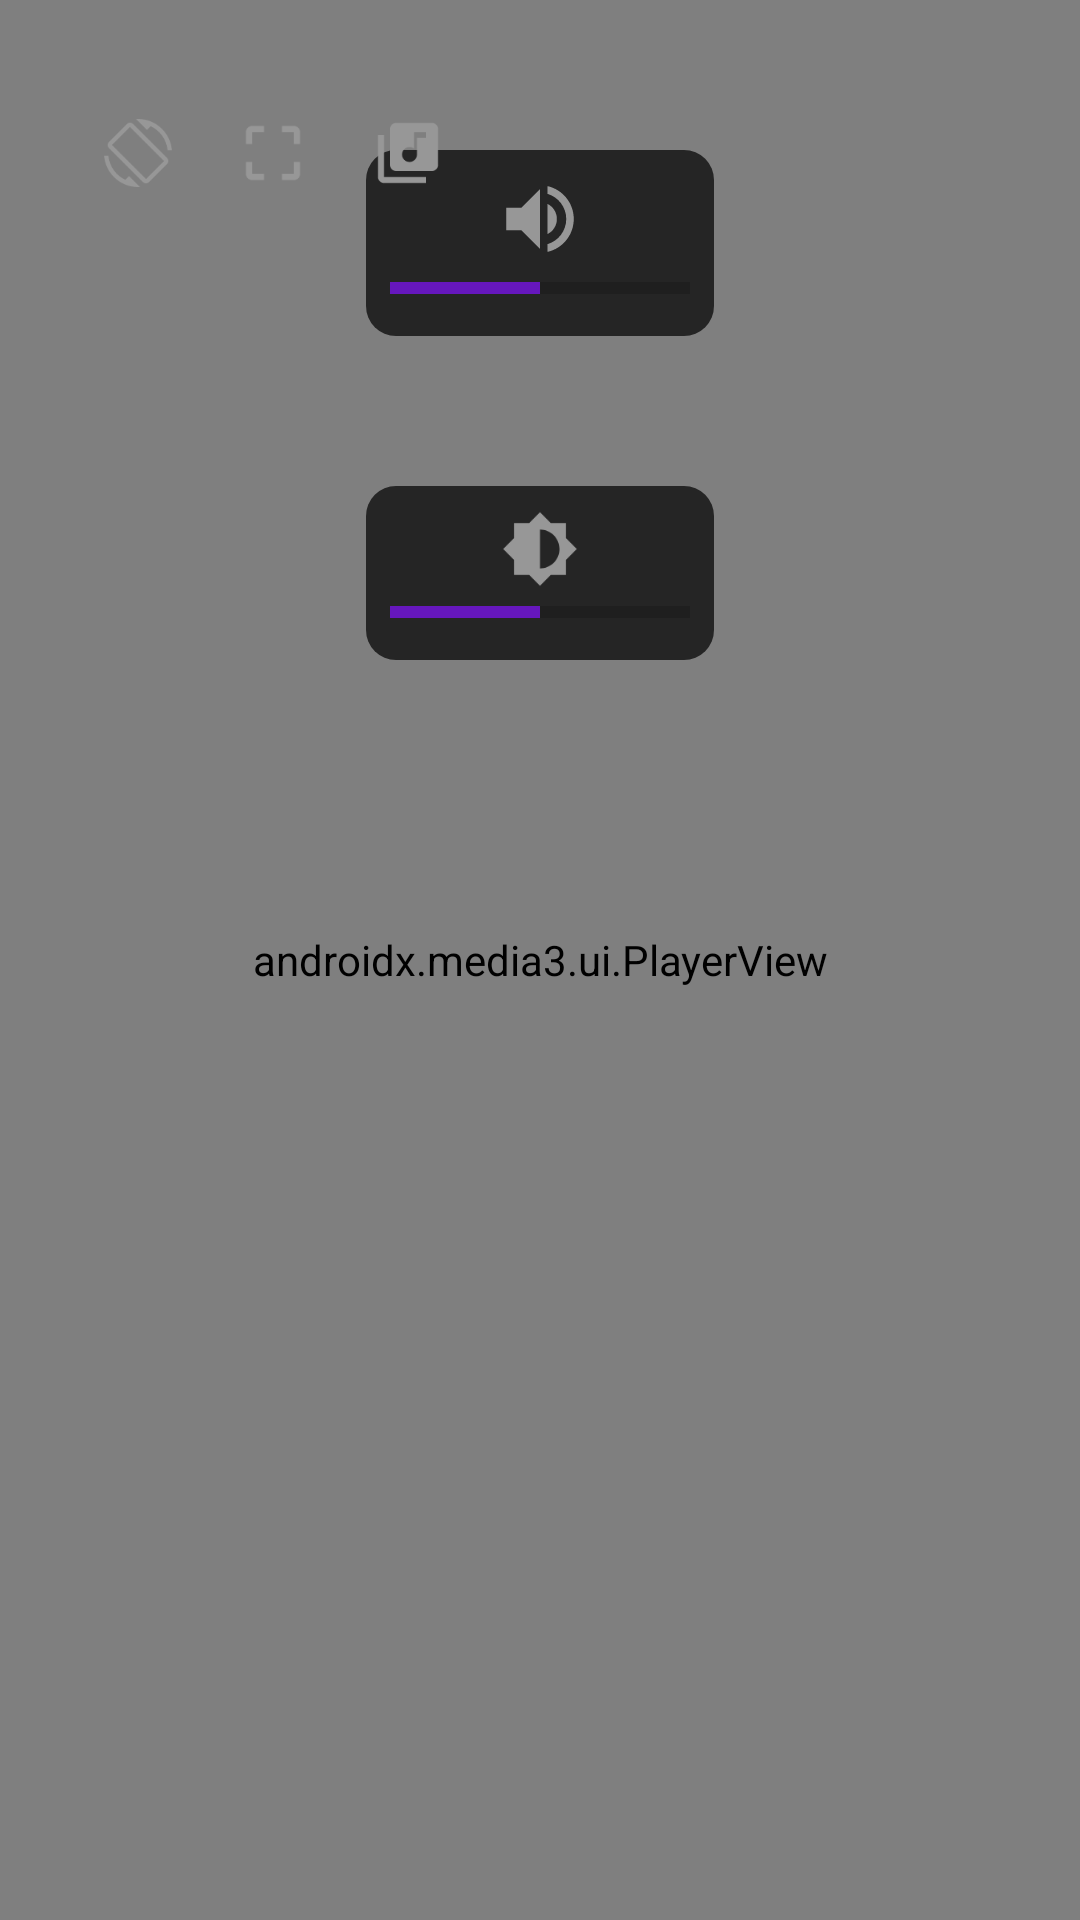

Icons on this 1080 x 1920 Android screen, each with its box as box=[x1, y1, x2, y2]:
brightness: box=[503, 512, 577, 586]
volume: box=[506, 186, 574, 252]
